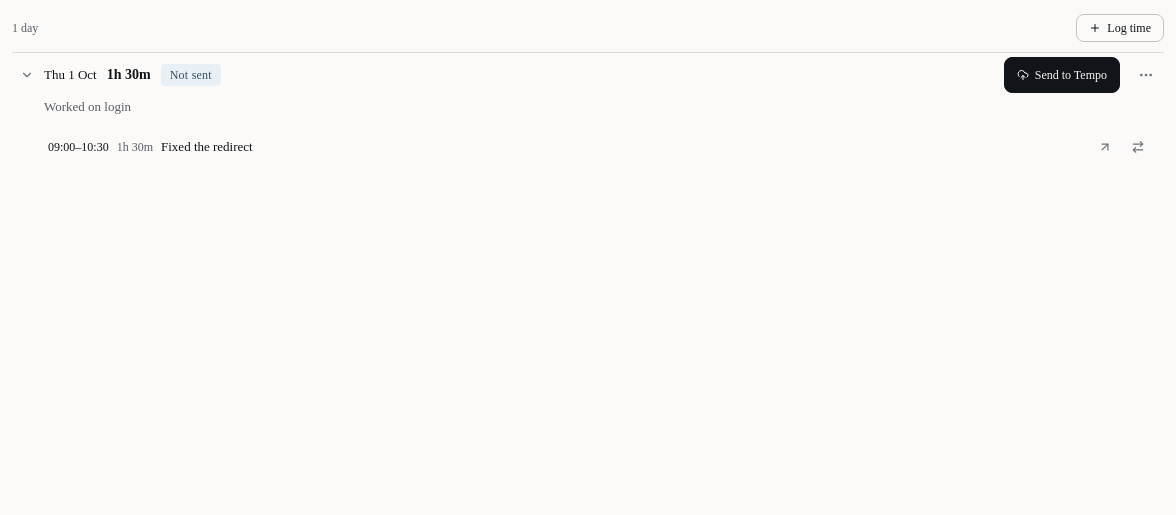
Test: Esc and Cancel never destroy a draft › Cancel with a typed description asks first, like Esc; Keep editing stays
Click the button "Log time". click: point(1120, 28)
box: [1076,14,1164,42]
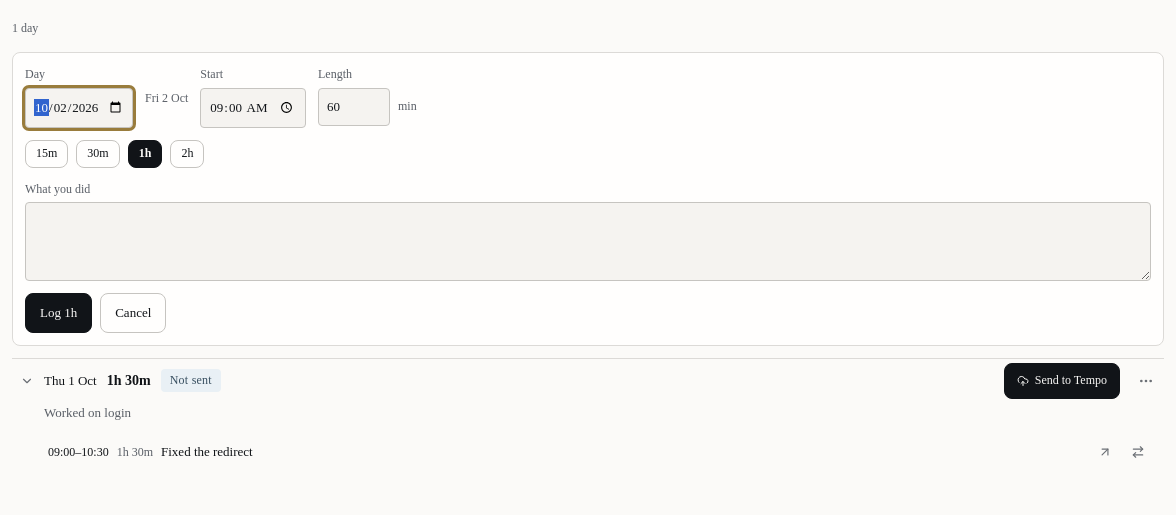
Type "work" into the text box labelled "What you did". click: point(588, 242)
box: [25,202,1151,281]
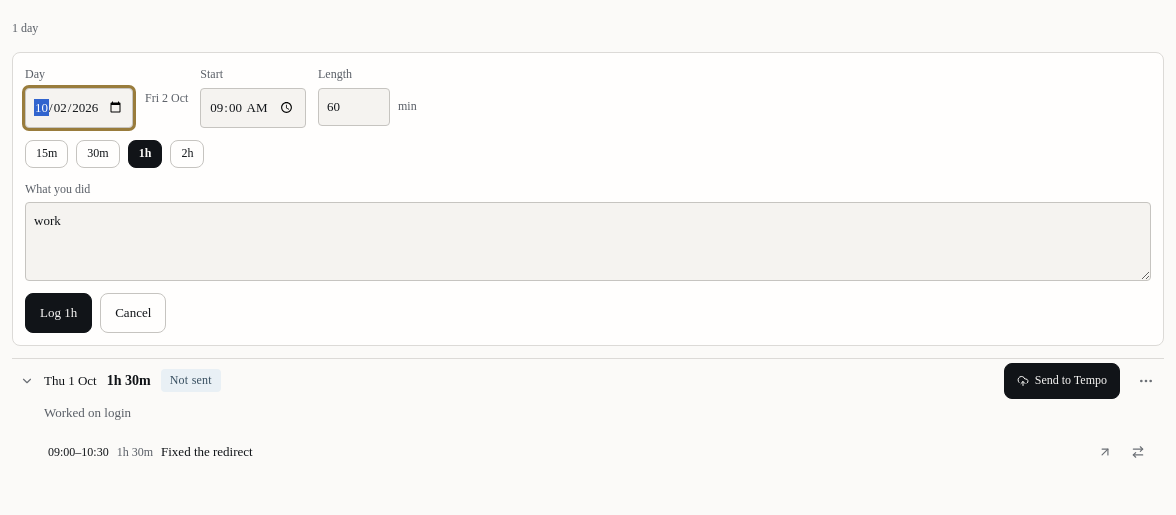
Click the button "Cancel". click: point(133, 313)
box: [100,293,166,333]
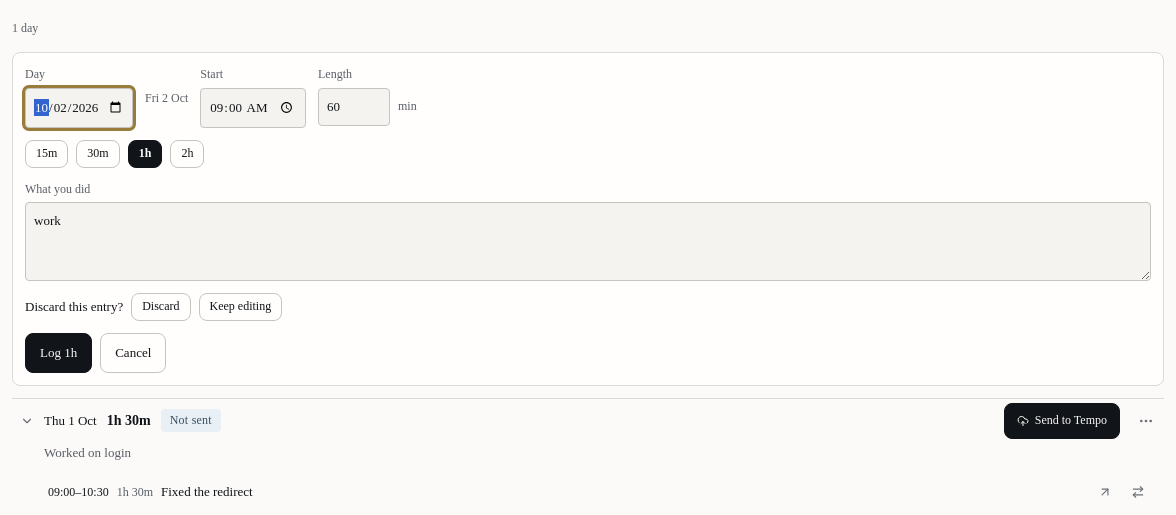
Expected: the text "Discard this entry? Discard Keep editing" is shown, [25,293,282,321]
Click the button "Keep editing". click: point(240, 307)
box: [198,293,282,321]
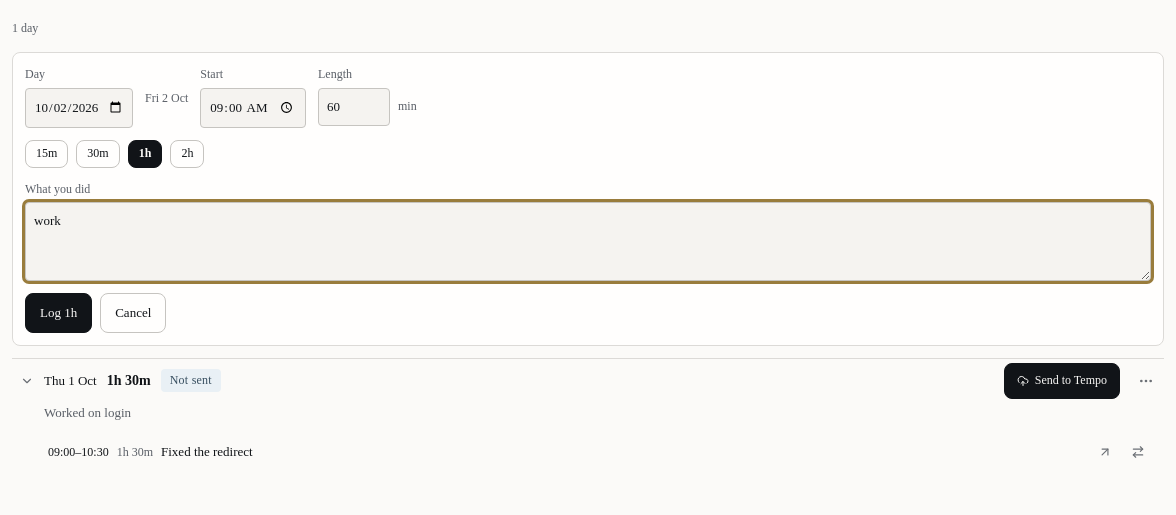
Expected: the text "Discard this entry?" is gone
